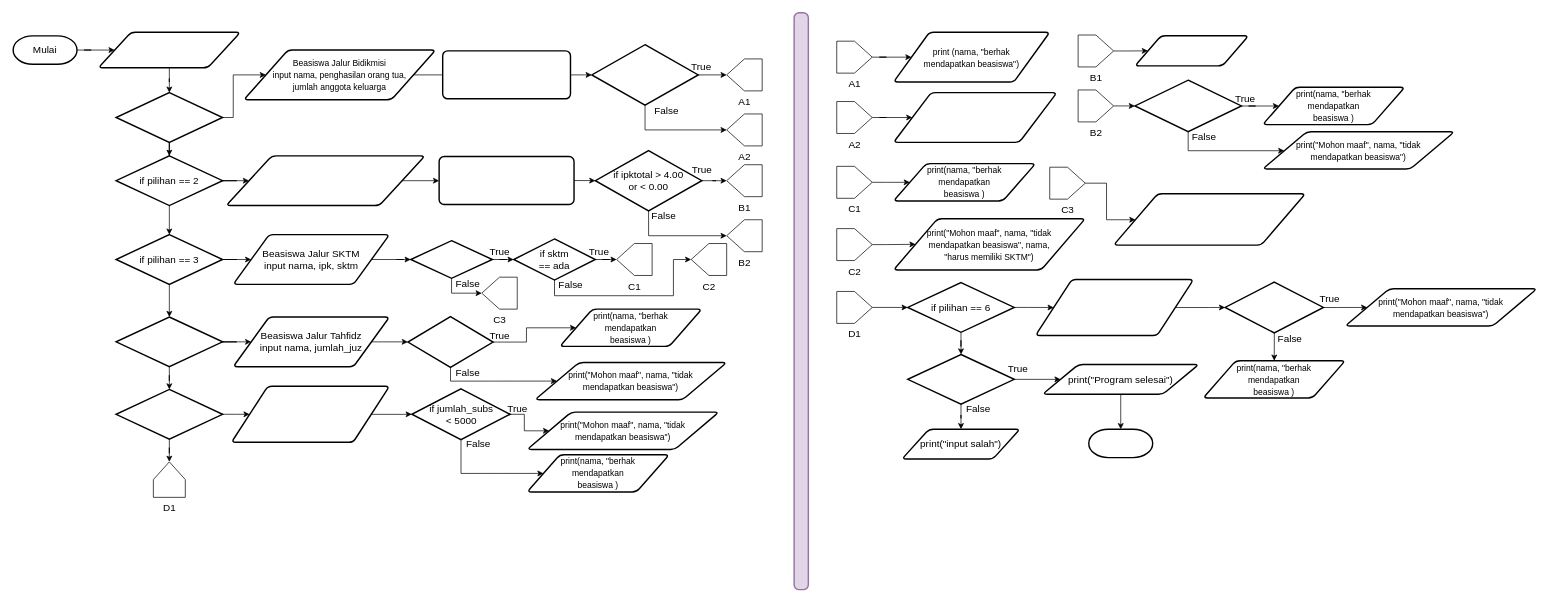
This 1550x603 diagram has some shape labels left out. The centre of each missing label's shape, as x and y in pixels:
Beasiswa Jalur Media Sosial input nama, followers: [1114,307]
Beasiswa Jalur Prestasi input nama, ipkd1, ipkd2, ipkd3, ipks1: [325,180]
Beasiswa Jalur Youtube input nama, jumlah_subs: [310,414]
if followers < 8000: [1274,307]
if ipk >= 3.50: [451,259]
if ipktotal >= 3.50: [1188,105]
if jumlah_juz >= 10: [450,342]
if pilihan == 1: [169,117]
if pilihan == 4: [169,341]
if pilihan == 5: [169,413]
if pilihan == 7: [961,379]
if total < 1500000: [645,74]
ipkrata = ipkd1+ipkd2+ipkd3+ipks1 ipktotal = ipkrata / 4: [506,180]
Masukkan Pilihan: [169,49]
print ("Mohon maaf", nama, "tidak mendapatkan beasiswa"): [974,117]
print("ipk terlalu besar"): [1191,50]
print("Mohon maaf", nama, "tidak mendapatkan beasiswa SKTM"): [1209,219]
Selesai: [1120,443]
Total = penghasilan orang tua / jumlah anggota keluarga: [506,74]
